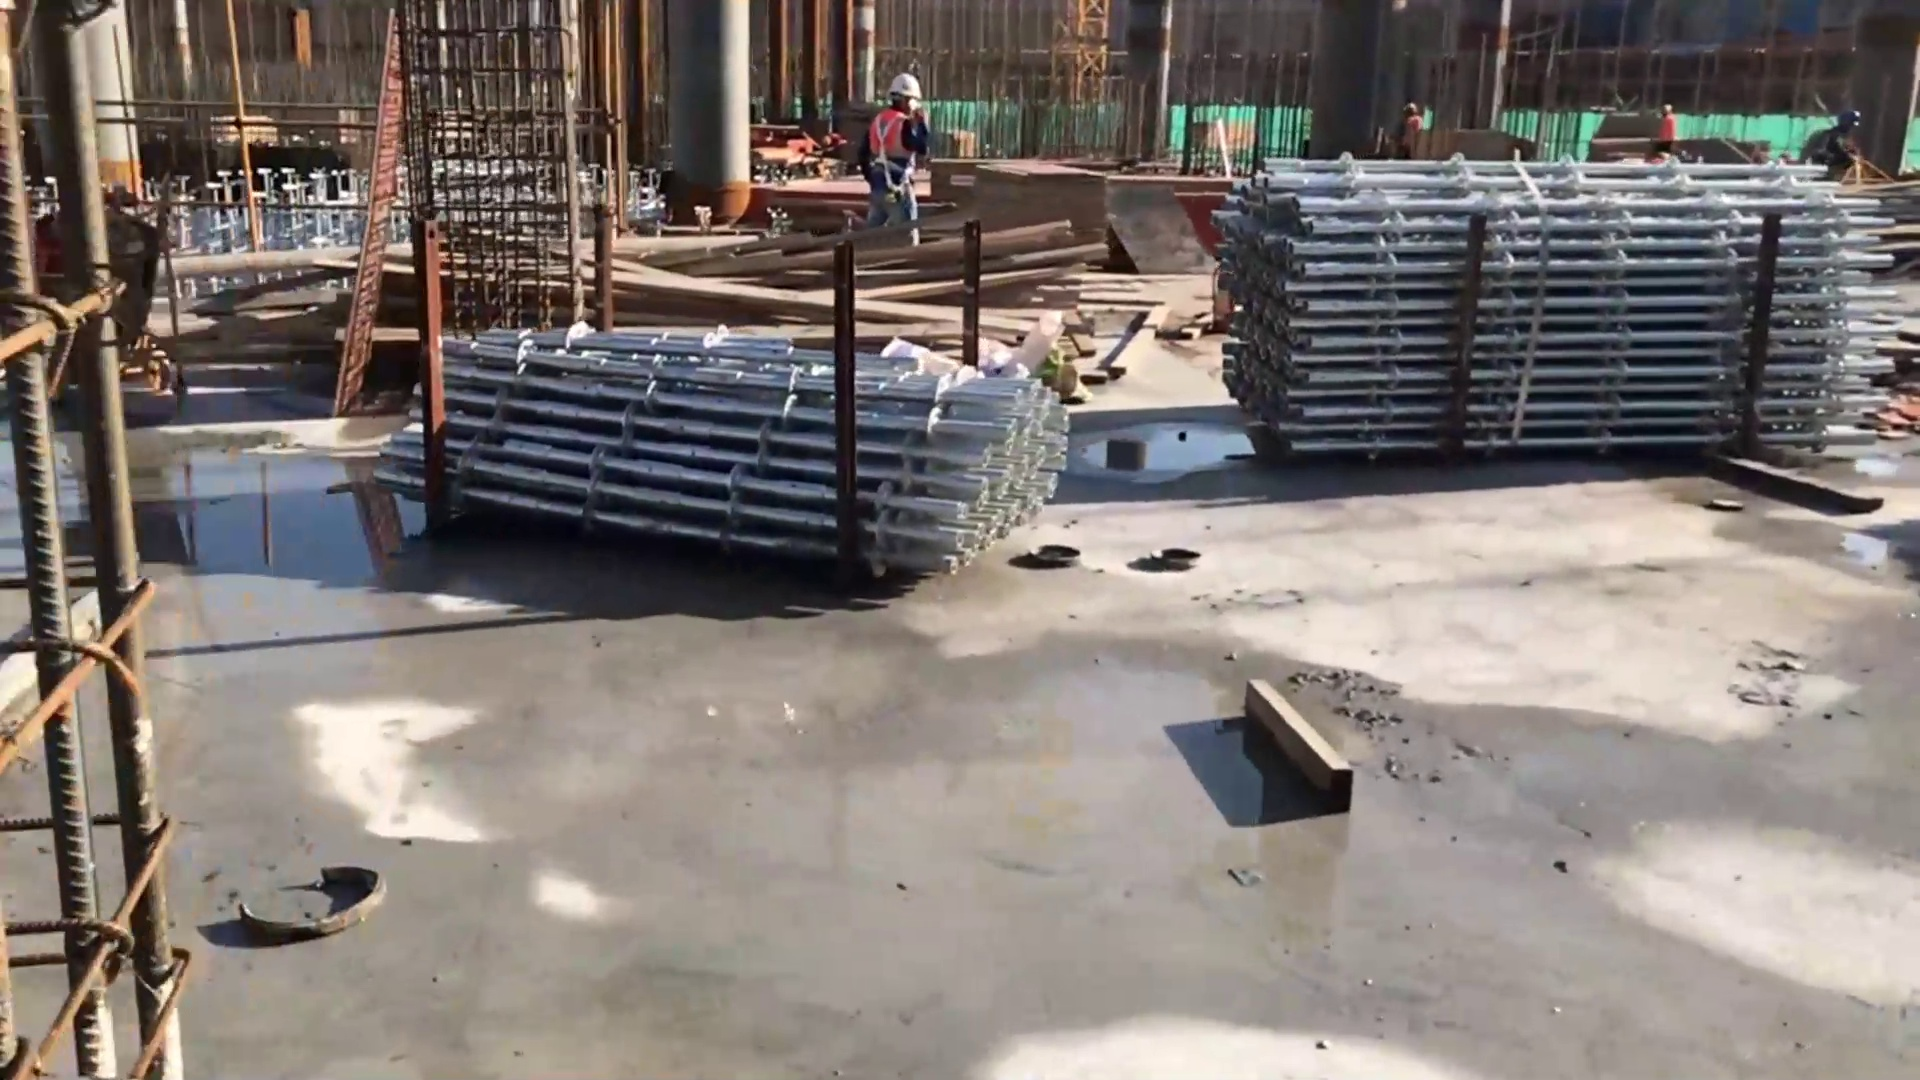helmet: (888, 72, 923, 99)
person: (871, 68, 936, 233)
scaffold: (1212, 151, 1906, 473), (389, 335, 1067, 566)
vest: (860, 109, 919, 189)
wood: (567, 211, 1119, 380)
